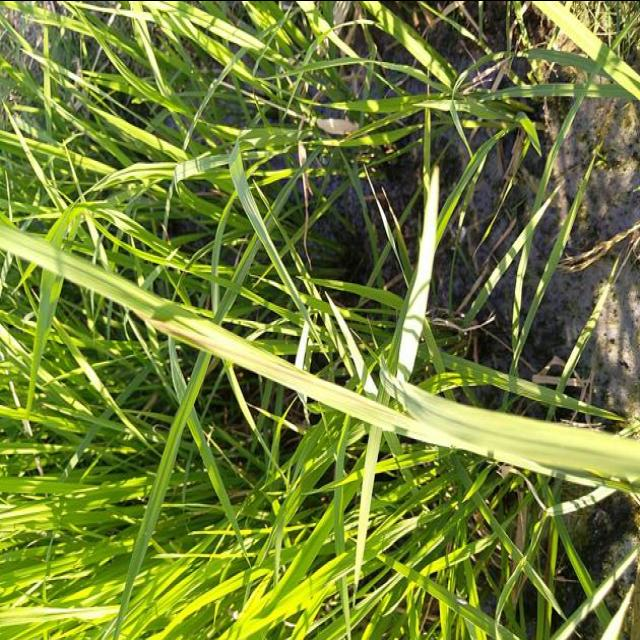Leaf Streak: (147, 319, 455, 446)
